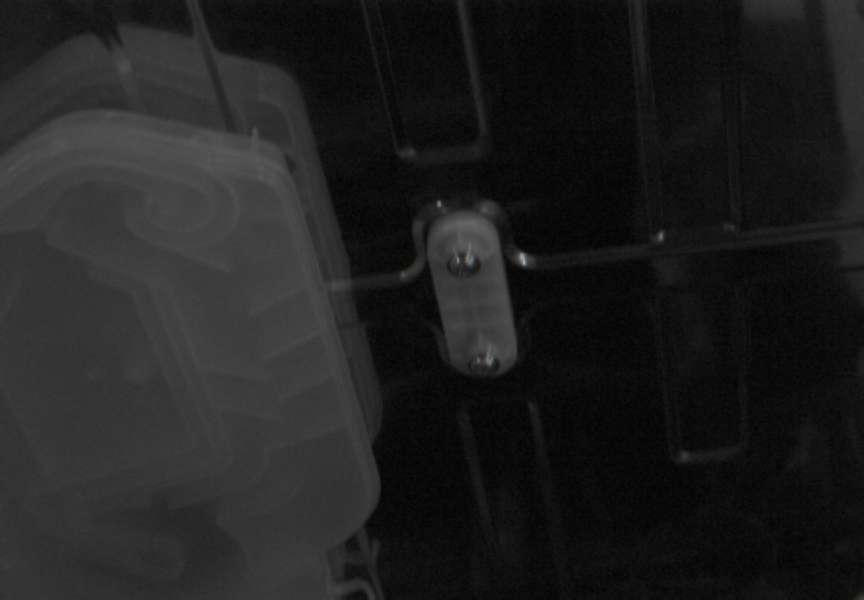screw: (447, 250, 481, 278), (468, 352, 500, 377)
